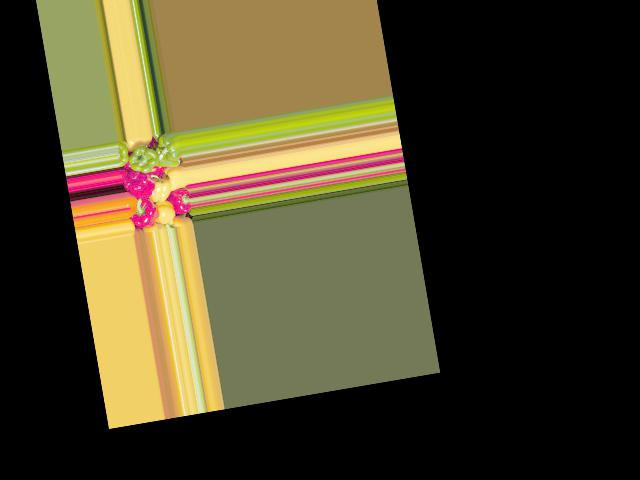bell_pepper: (115, 139, 134, 167)
